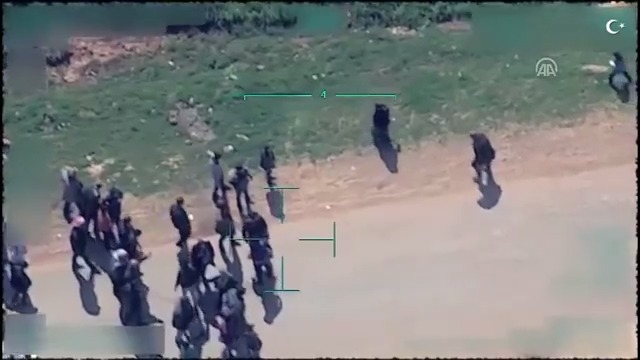insan: (462, 122, 502, 191), (228, 163, 262, 213), (169, 188, 194, 249), (605, 46, 635, 90), (258, 142, 283, 187)
